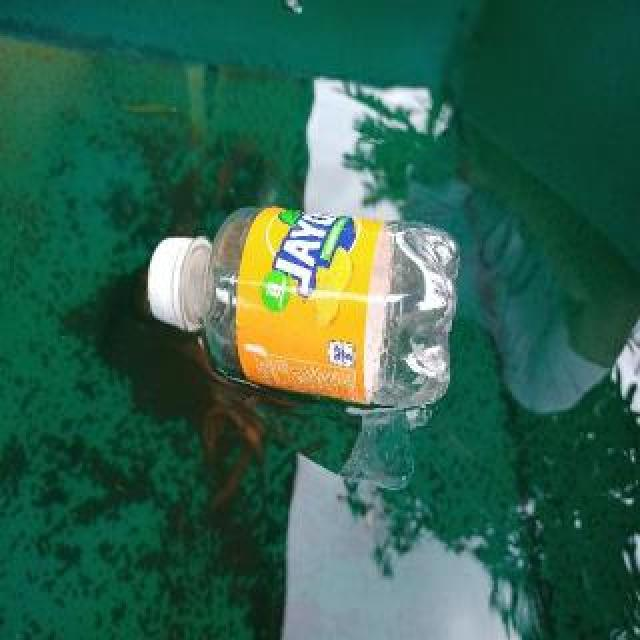Bottle: (137, 199, 473, 420)
